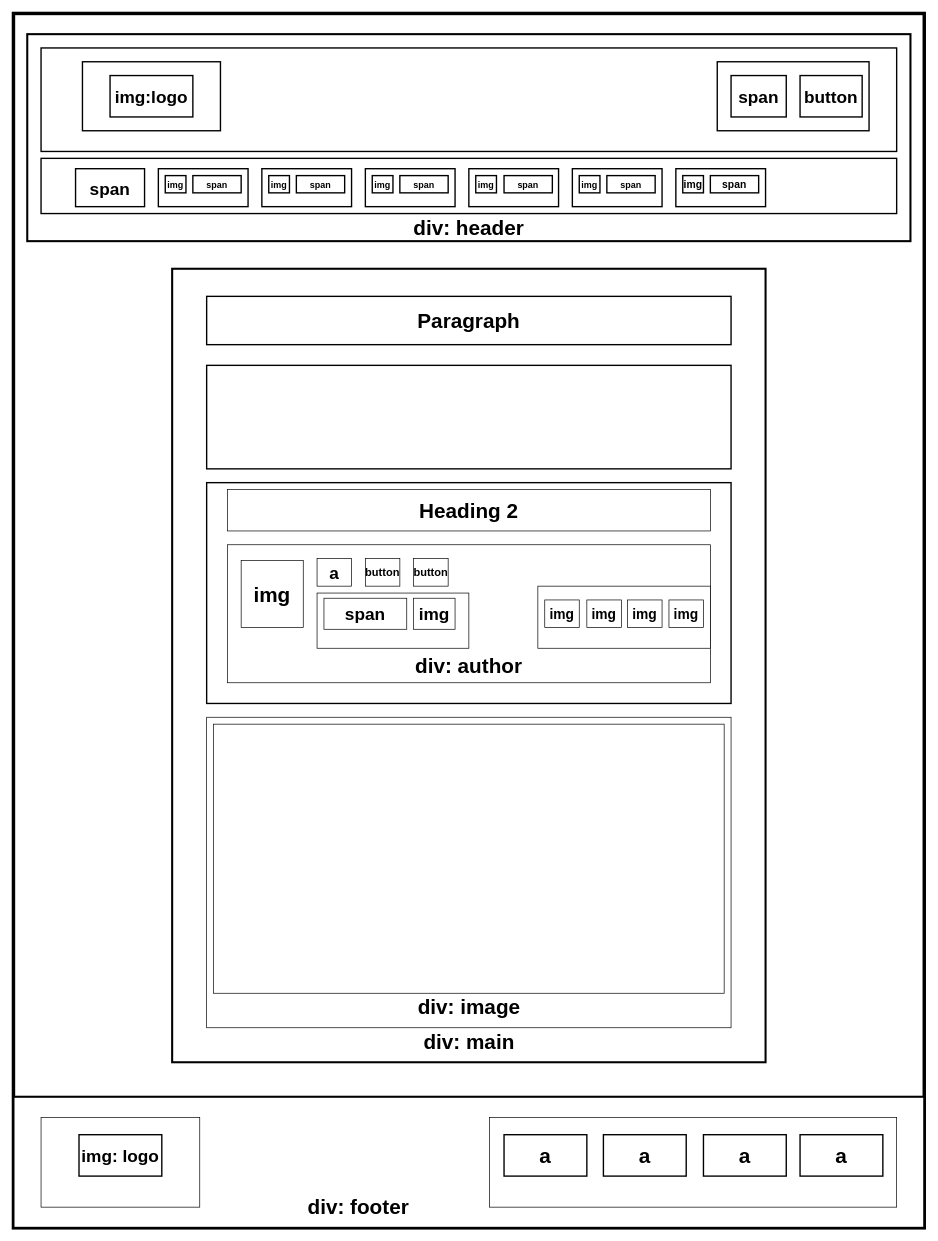
Some shapes in this 938 by 1241 pixel diagram are drawn without their labels. Each missing label, with the box of its shape:
Heading 1: (206, 364, 731, 469)
Image: (213, 723, 724, 993)
